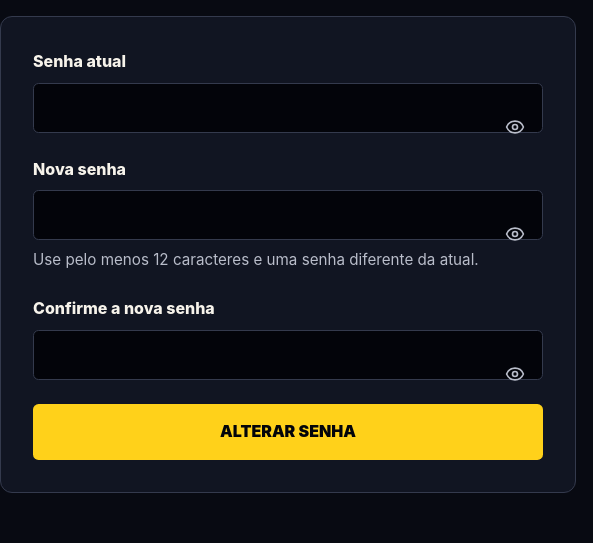
Test case: autenticação administrativa › não envia senhas inválidas e informa quando a nova repete a atual
Type "mesma-senha-segura" into the password field labelled "Senha atual".
click(288, 108); type("mesma-senha-segura")  # box [33, 83, 543, 133]
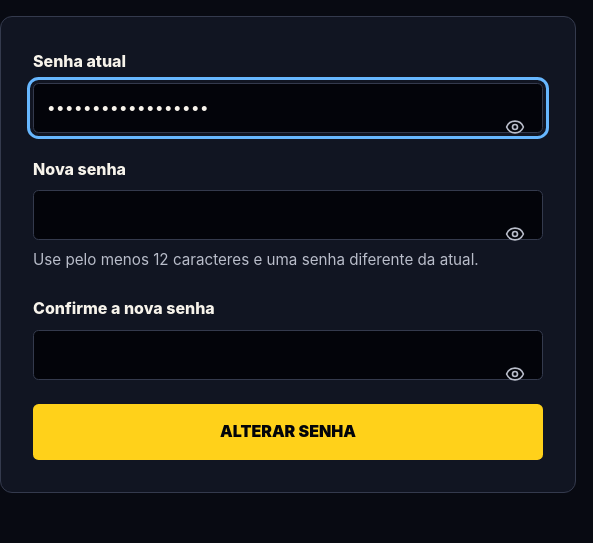
Type "mesma-senha-segura" into the password field labelled "Nova senha".
click(288, 215); type("mesma-senha-segura")  # box [33, 190, 543, 240]
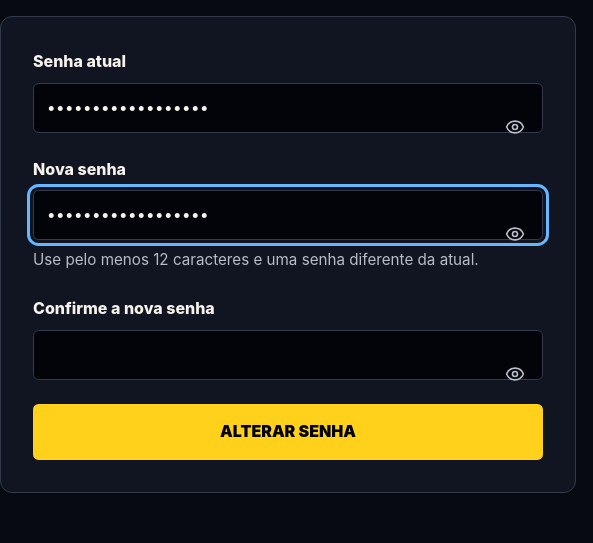
Type "mesma-senha-segura" into the password field labelled "Confirme a nova senha".
click(288, 355); type("mesma-senha-segura")  # box [33, 330, 543, 380]
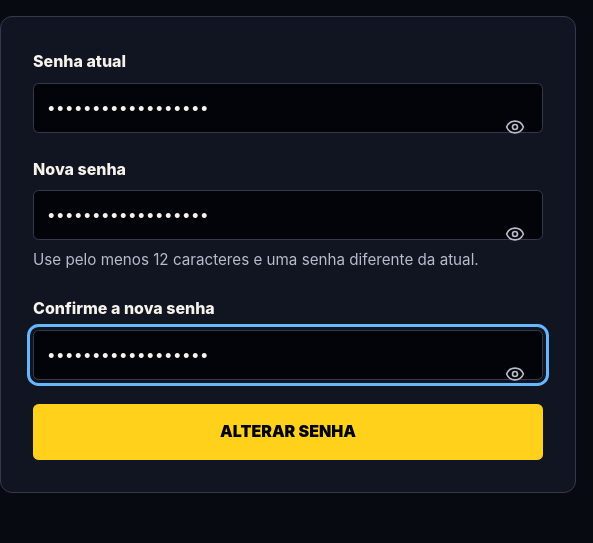
Click the button "ALTERAR SENHA".
click(288, 432)  # box [33, 404, 543, 460]
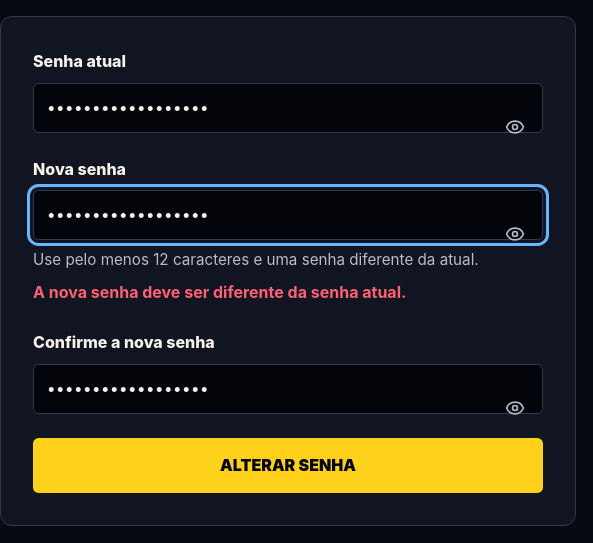
Now the text "A nova senha deve ser diferente da senha atual." is shown, box [33, 282, 406, 302]
